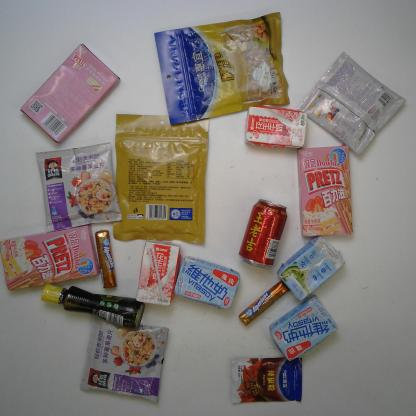Candy: (235, 280, 290, 326), (93, 230, 116, 288)
Dessert: (20, 43, 120, 144), (0, 224, 100, 290), (293, 146, 354, 236)
Dried Fruit: (152, 11, 291, 125), (114, 113, 208, 245)
Drink: (238, 199, 287, 267)
Instant Drink: (296, 51, 406, 156), (80, 316, 169, 403), (34, 143, 120, 233)
Milk: (267, 296, 340, 361), (276, 236, 346, 300), (177, 257, 240, 311), (134, 241, 180, 305), (245, 107, 306, 150)
Seasoner: (39, 283, 145, 329), (231, 355, 304, 403)
